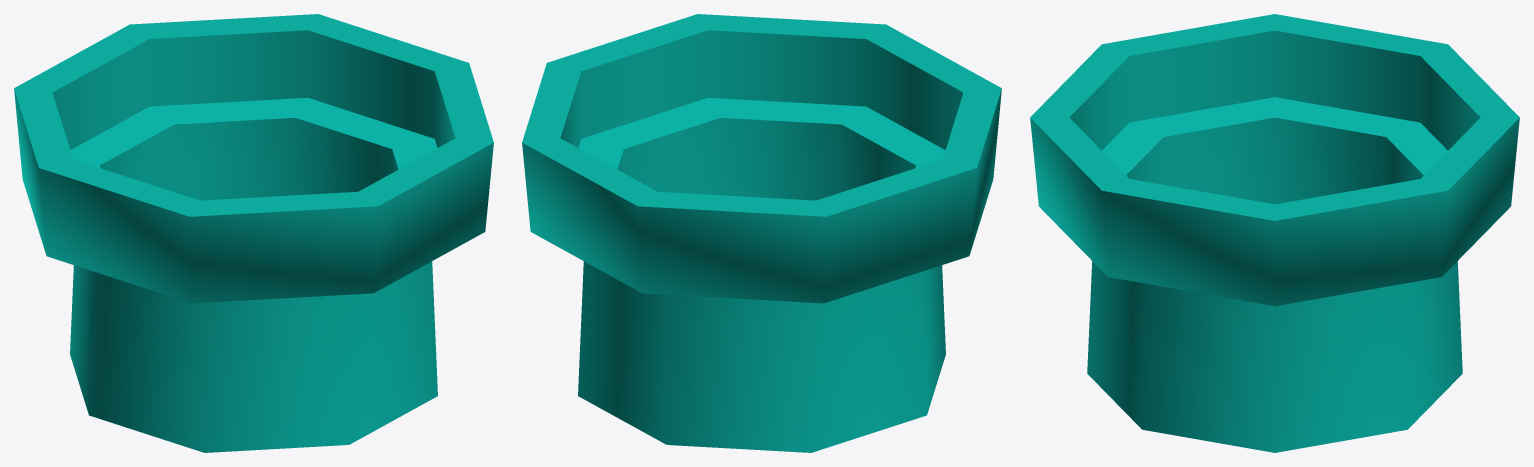
The model's file is LaundryDetergent_XL_Cap_Standalone_Laundromat.fbx.
3 views of the same model, side by side, from view 1: azimuth 30°, elevation 25°; view 2: azimuth 150°, elevation 25°; view 3: azimuth 270°, elevation 25° (orthographic).
Visible parts, largest first — view 1: LaundryDetergent_XL_Cap_Standalone.Laundromat; view 2: LaundryDetergent_XL_Cap_Standalone.Laundromat; view 3: LaundryDetergent_XL_Cap_Standalone.Laundromat.
Part boxes in pixels (bbox=[...]): LaundryDetergent_XL_Cap_Standalone.Laundromat: bbox=[14, 14, 493, 452]; LaundryDetergent_XL_Cap_Standalone.Laundromat: bbox=[522, 14, 1001, 452]; LaundryDetergent_XL_Cap_Standalone.Laundromat: bbox=[1030, 14, 1519, 452].
Bounding box in the file's own units: 19.98 × 11.53 × 19.98.
Materials: 1 (1 with a texture image).
